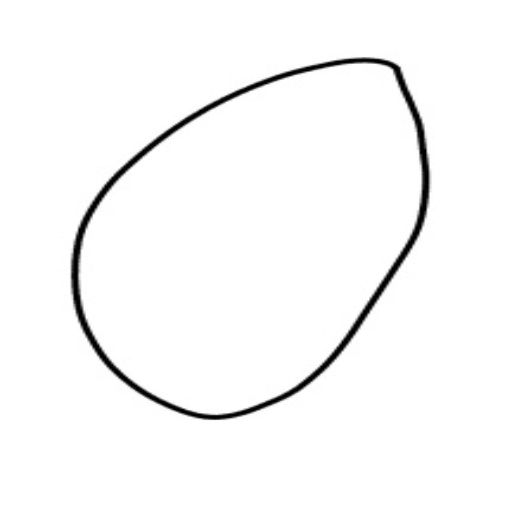circle: (52, 52, 438, 430)
